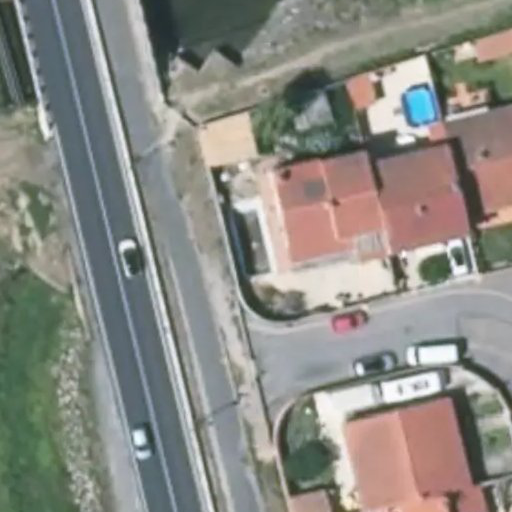pool: (231, 208, 280, 275)
